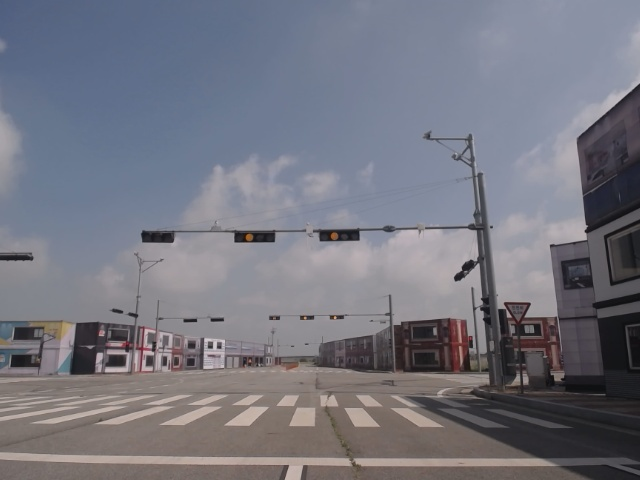orange_4: (320, 229, 358, 240), (235, 231, 275, 241)
